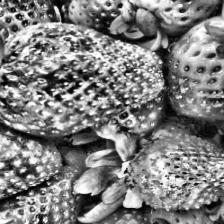Powdery Mildew Fruit: (0, 22, 166, 138), (125, 132, 224, 210), (0, 116, 62, 204)
